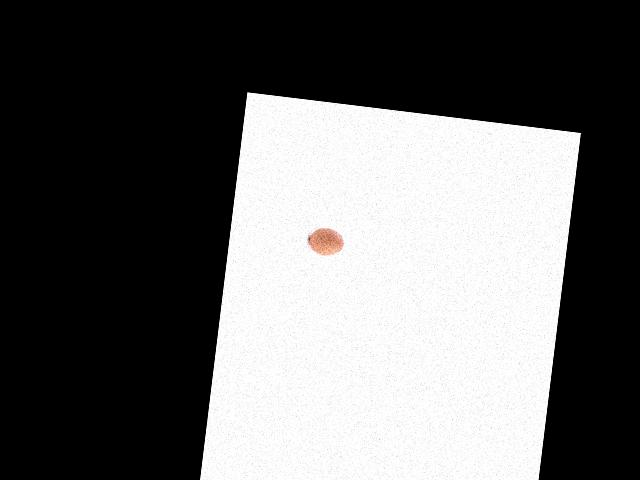egg: (307, 225, 345, 257)
